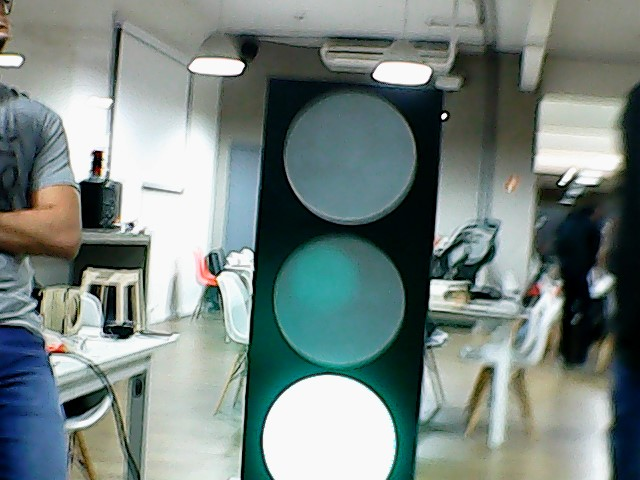verde: (233, 73, 450, 480)
